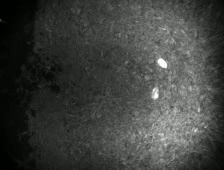corn: (149, 84, 162, 102), (155, 55, 170, 70)
